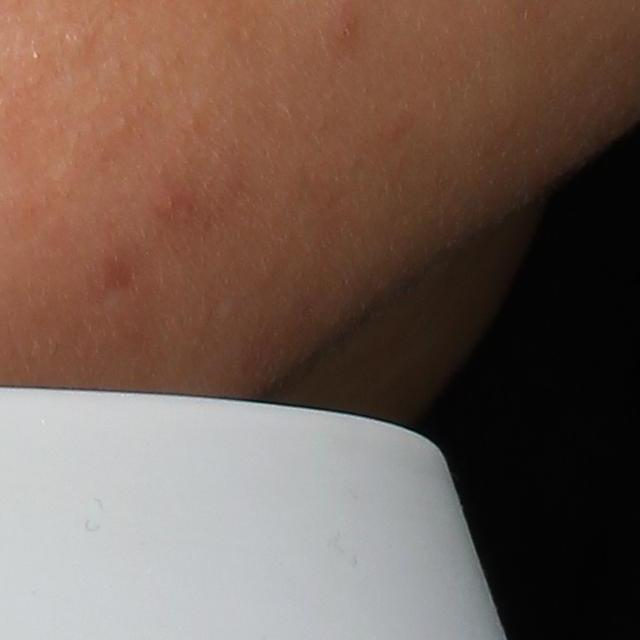papule: (148, 182, 191, 225), (332, 16, 357, 42)
